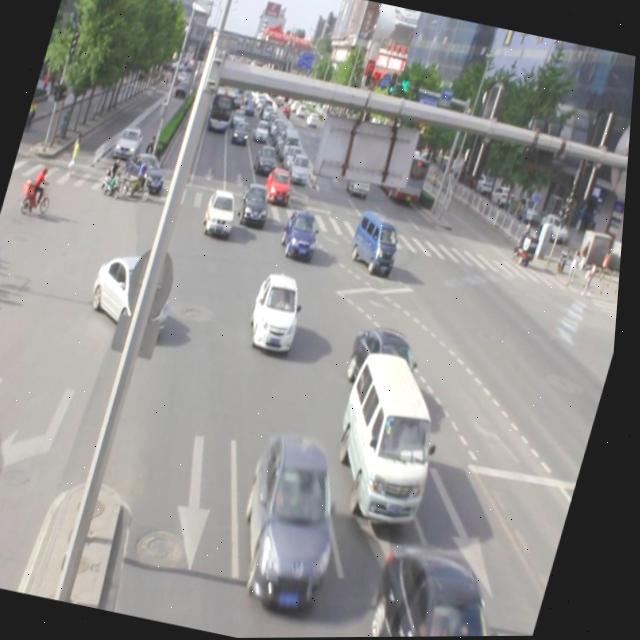car: (227, 427, 368, 615), (364, 537, 534, 638), (87, 247, 187, 342), (344, 322, 436, 414), (247, 269, 314, 354), (282, 208, 328, 263), (203, 187, 244, 239), (238, 181, 277, 227)
truck: (324, 349, 464, 528), (349, 210, 408, 276)
